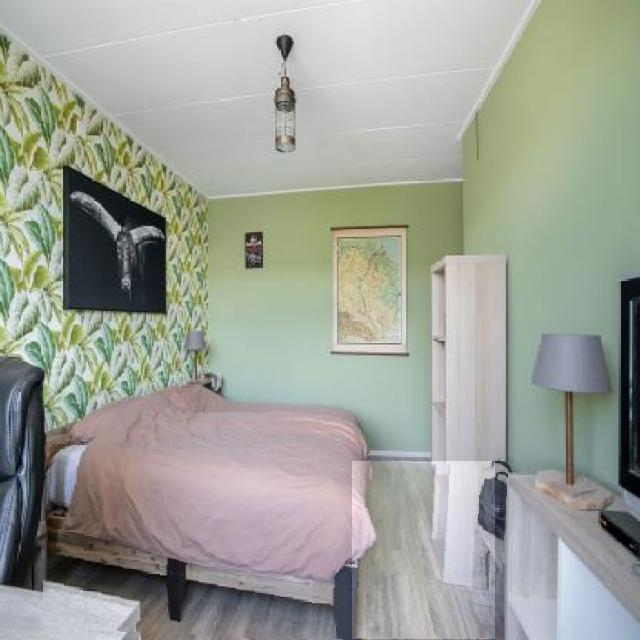floor: (353, 462, 495, 639), (44, 559, 350, 640)
